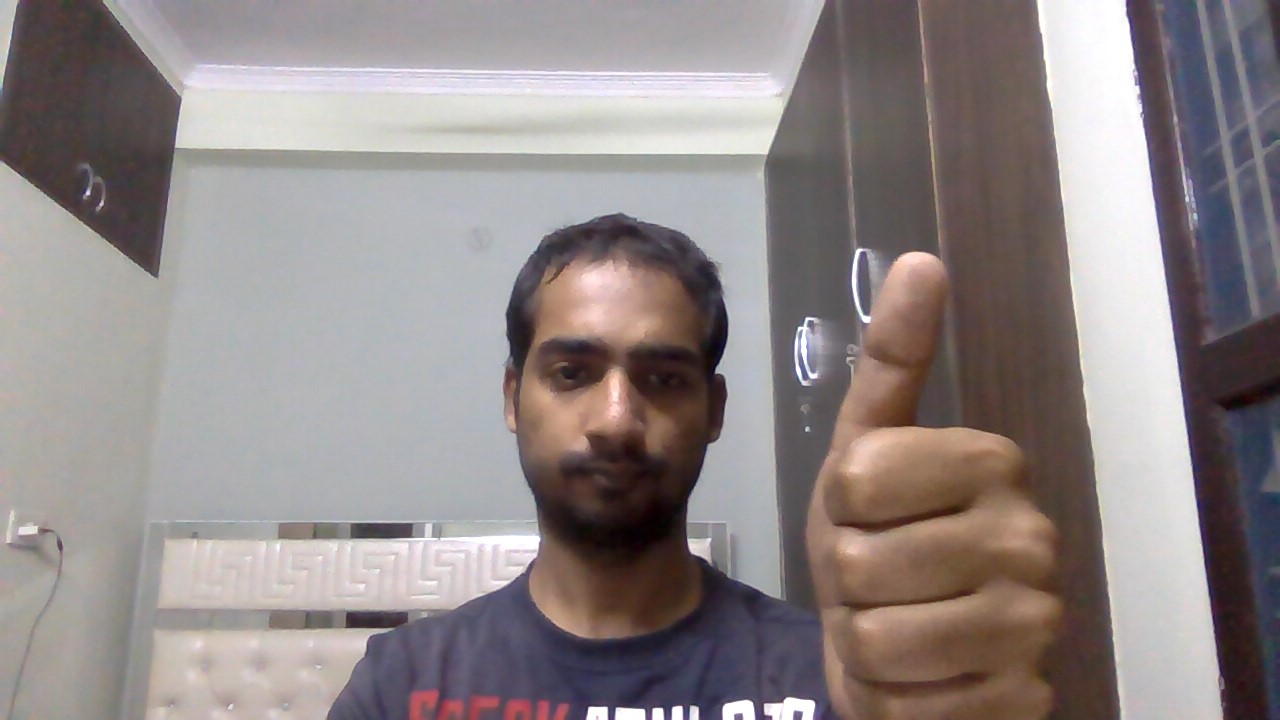Save: (788, 242, 1096, 718)
